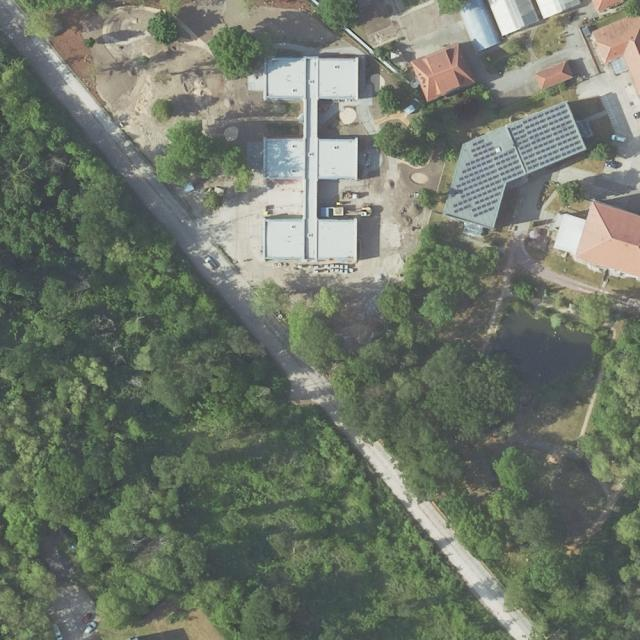PV: (453, 139, 523, 217), (510, 104, 583, 170)
